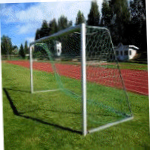goals: (27, 21, 137, 137)
